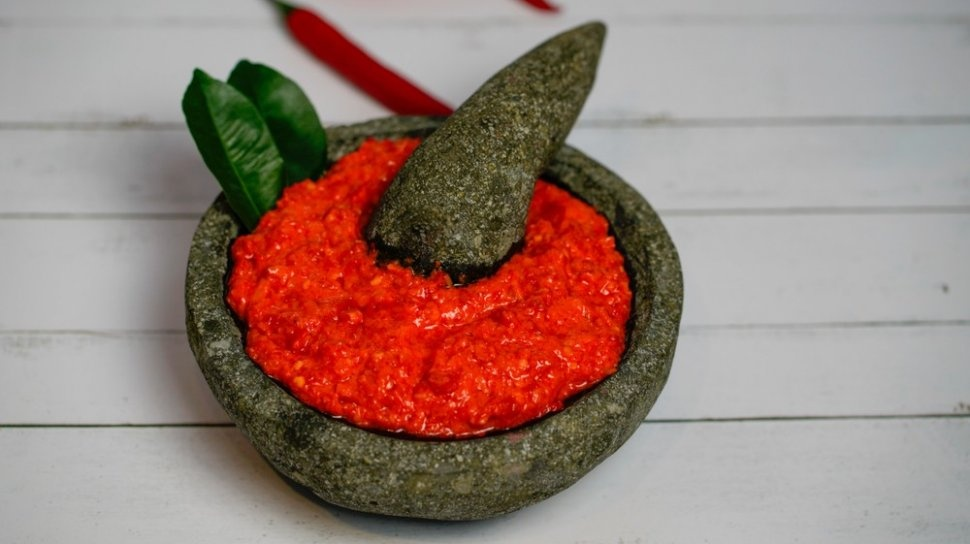sambal: (225, 136, 634, 441)
